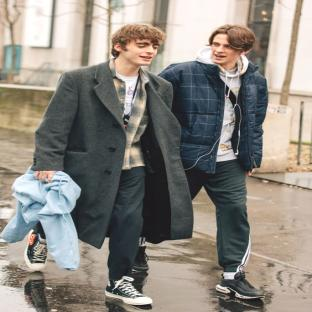Human: (31, 24, 268, 305), (24, 222, 47, 271)
